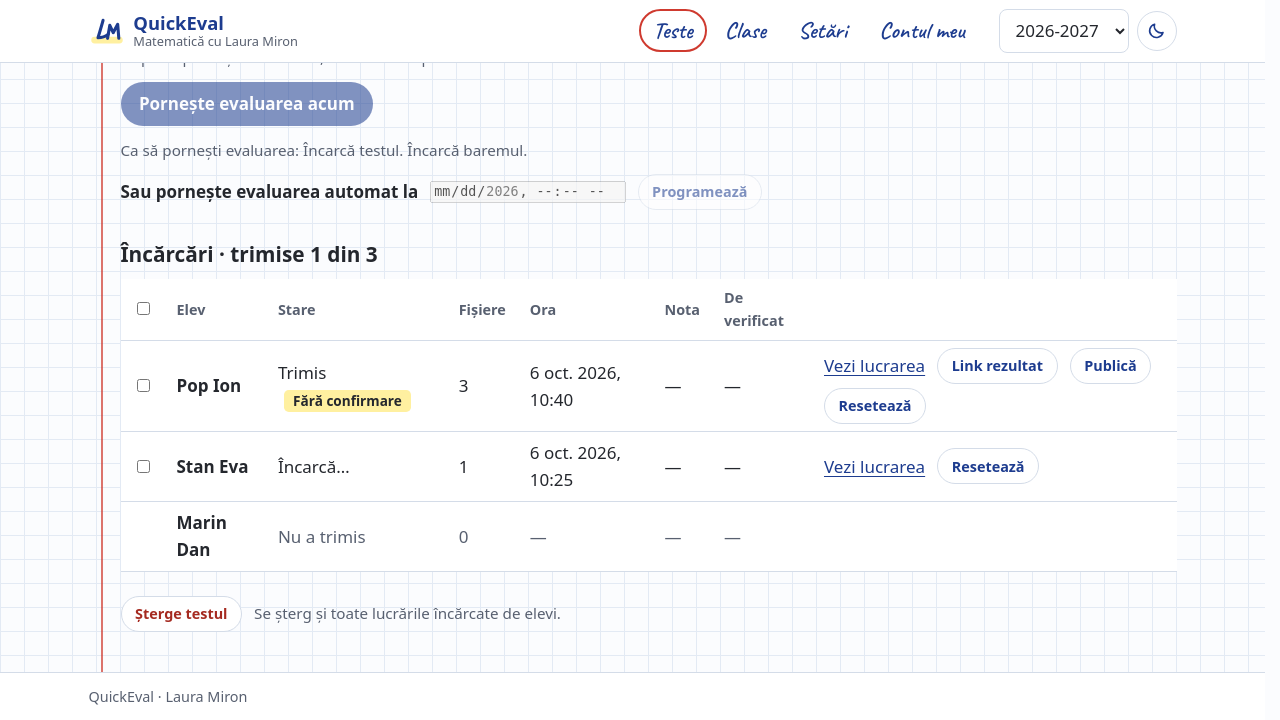
Scenario: TestPage › resets an upload only after the teacher confirms
(page scrolled)
Click the button "Resetează" in the row of "Stan Eva" at (988, 466), box [937,448,1039,484]
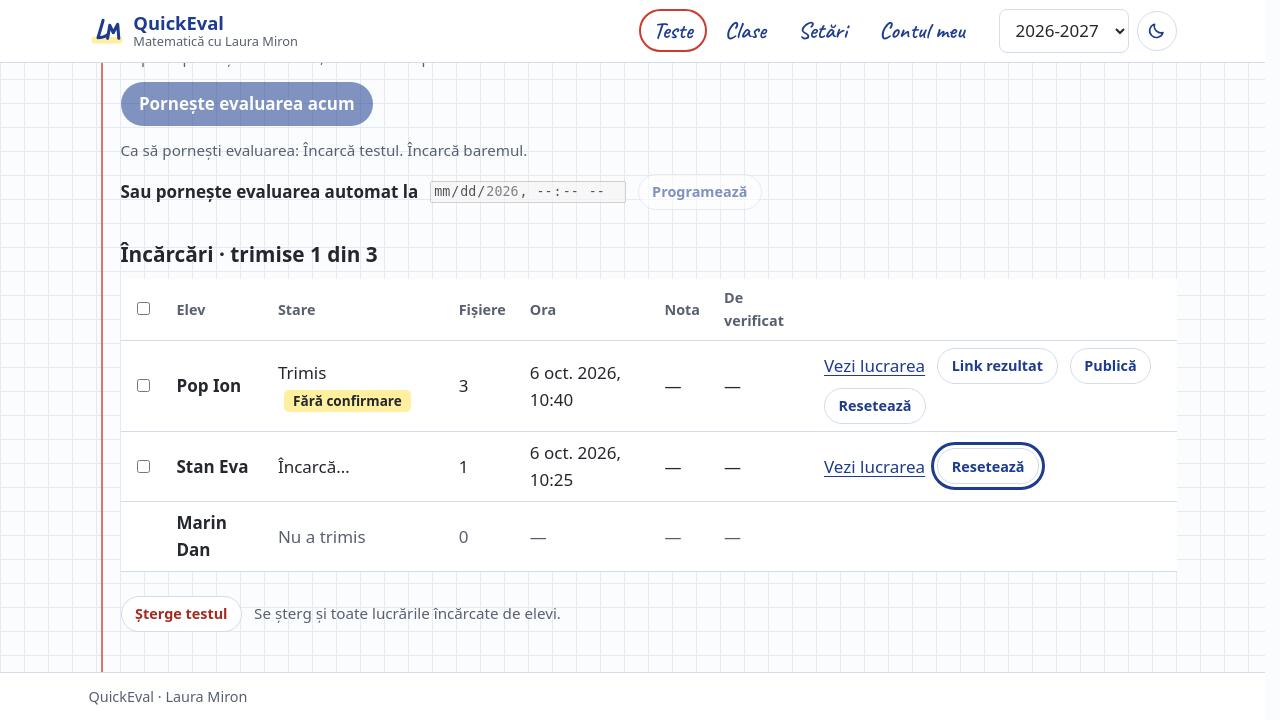
Click the button "Resetează" in the row of "Stan Eva" at (988, 466), box [937,448,1039,484]
(page scrolled)
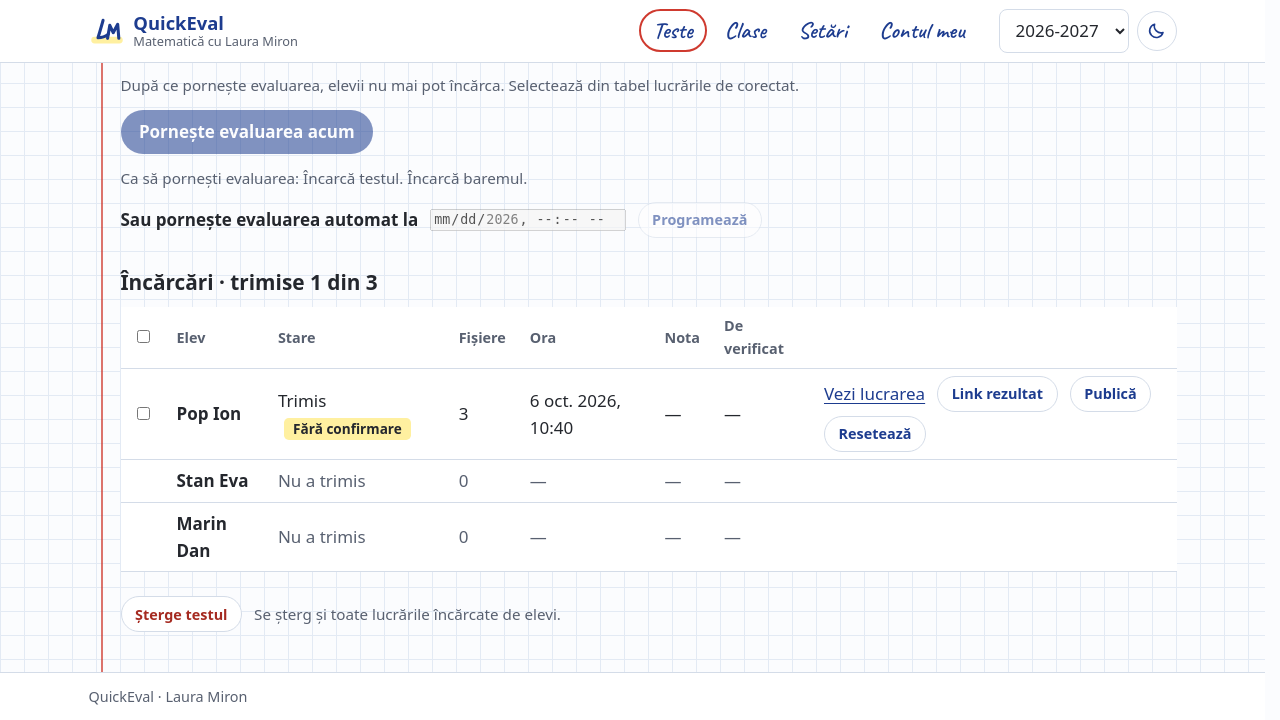
Now the text "Nu a trimis" next to "Stan Eva" is shown, box [278,469,366,492]
